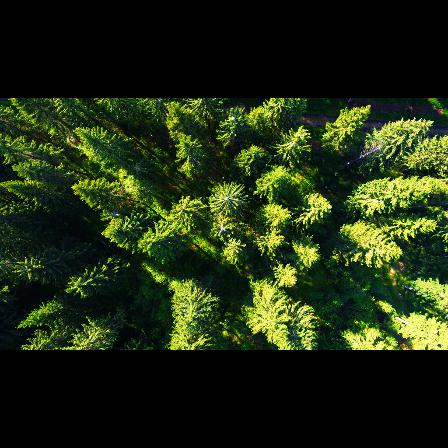Sick: (208, 182, 247, 217), (122, 158, 154, 178), (214, 220, 234, 237)
